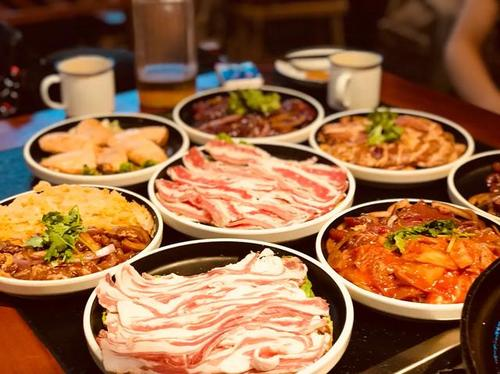food: (88, 238, 353, 372), (317, 185, 492, 313), (163, 134, 357, 238), (0, 173, 165, 292), (313, 97, 473, 184), (30, 106, 184, 187), (172, 72, 324, 144)
